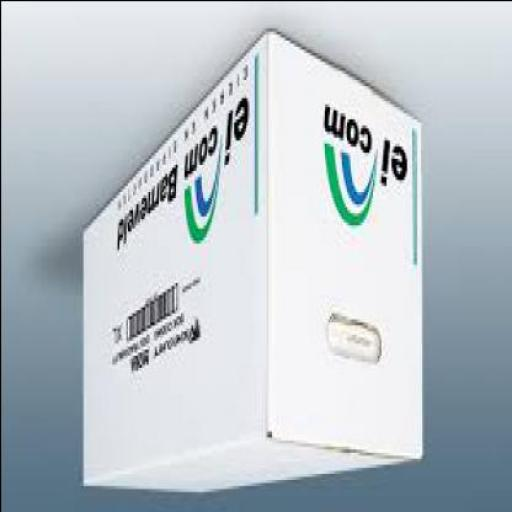cardboard: (84, 30, 426, 494)
